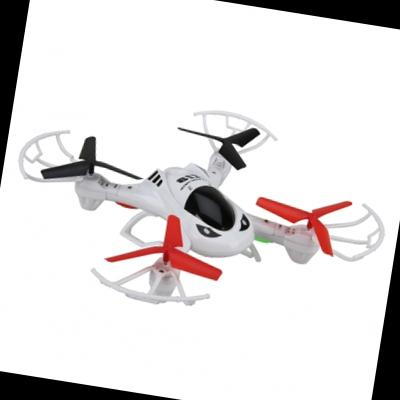drone: (0, 80, 387, 344)
